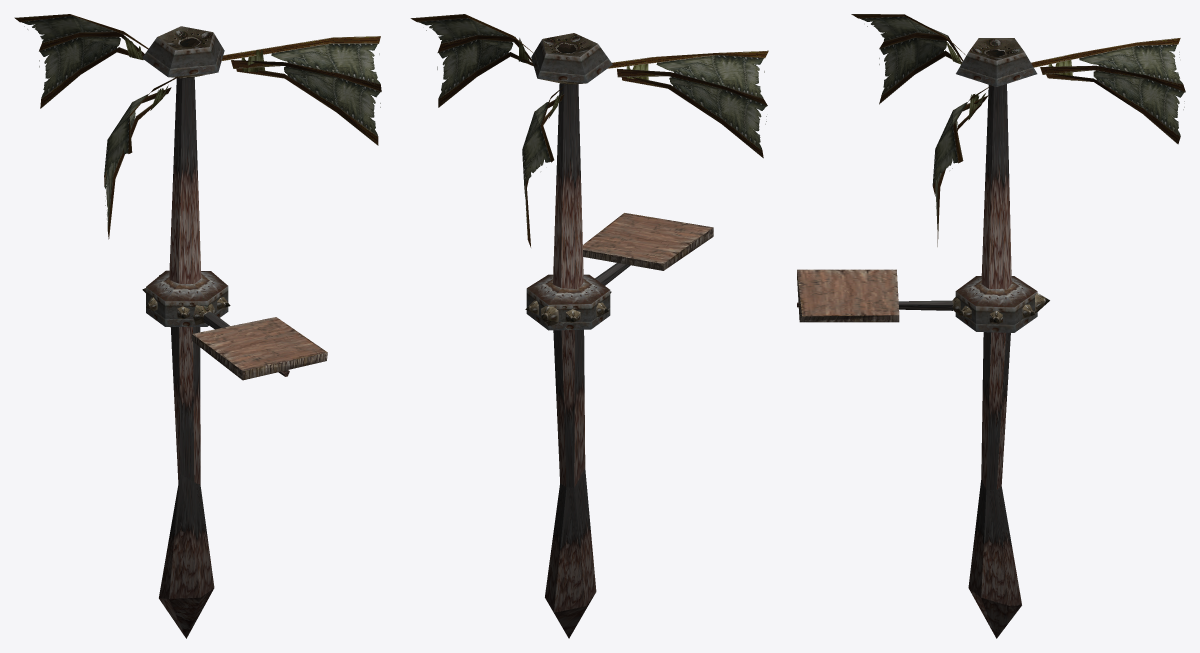
File: cavespatula-darkcave-lod1.glb
The picture shows the model from 3 angles, left to right: view 1: azimuth 30°, elevation 25°; view 2: azimuth 150°, elevation 25°; view 3: azimuth 270°, elevation 25°; orthographic projection.
Parts seen in each view (by area): view 1: cavespatula-darkcave-lod1; view 2: cavespatula-darkcave-lod1; view 3: cavespatula-darkcave-lod1.
Boxes of the visible parts, <box> form: cavespatula-darkcave-lod1: <box>14,14,381,638</box>; cavespatula-darkcave-lod1: <box>410,14,768,638</box>; cavespatula-darkcave-lod1: <box>797,14,1185,638</box>.
Size of the model in its own units: 17.82 by 32 by 19.07.
Materials: 9 (9 with a texture image).
